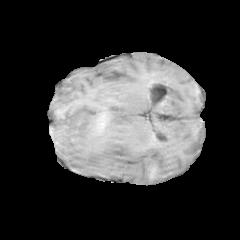glioma: (55, 107, 133, 173)
